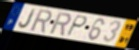3: (102, 21, 123, 45)
6: (87, 18, 105, 41)
J: (18, 8, 38, 29)
P: (65, 14, 89, 37)
R: (48, 11, 73, 36), (29, 8, 53, 33)
